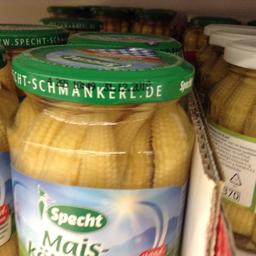corn: (4, 41, 194, 255)
